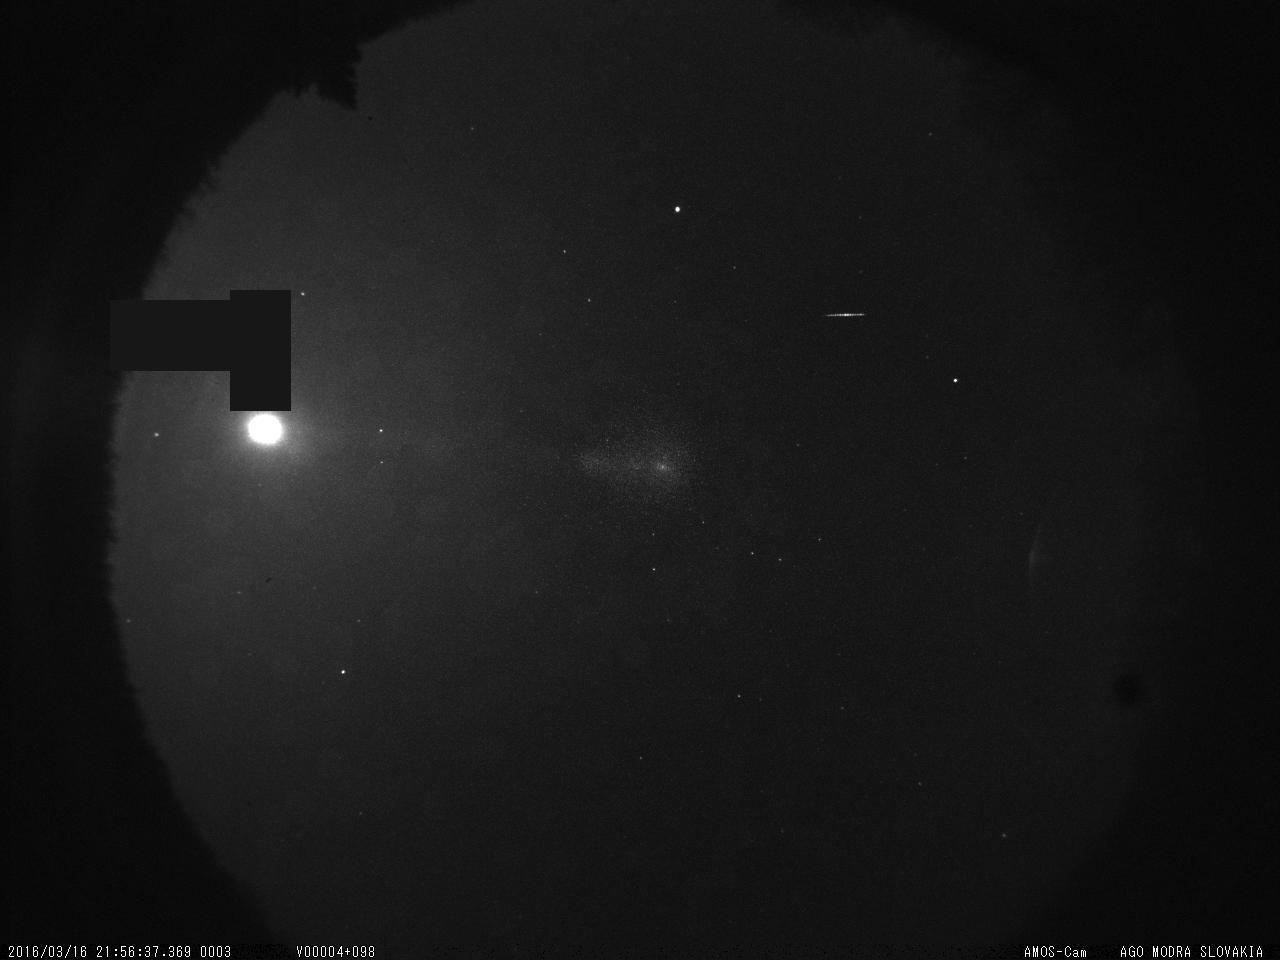meteor: (813, 299, 872, 332)
